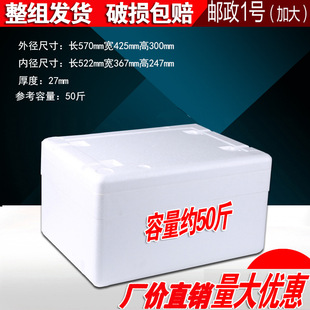泡沫箱: (41, 125, 271, 286)
